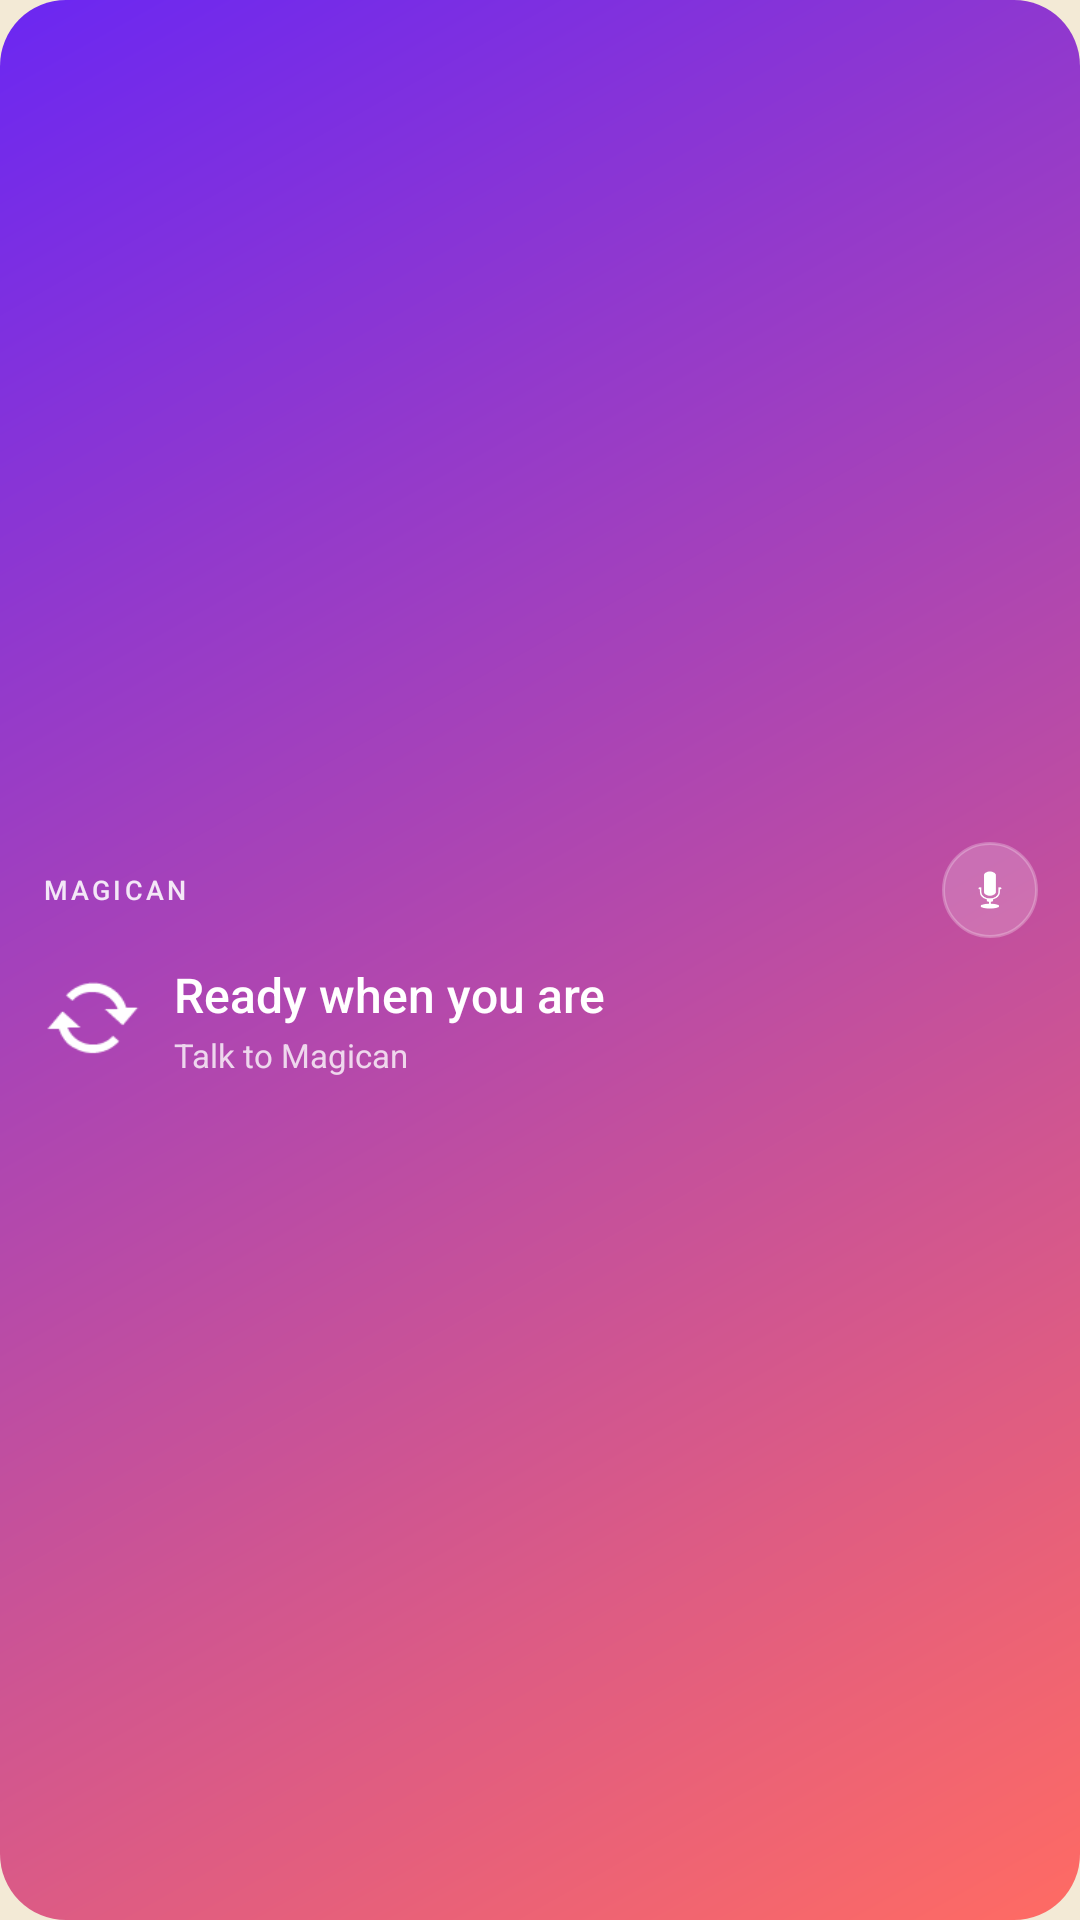

Point at icon controls on the screen. Image size 1080 x 1920, points as (x=x, y=y).
sync: (x=92, y=1018)
